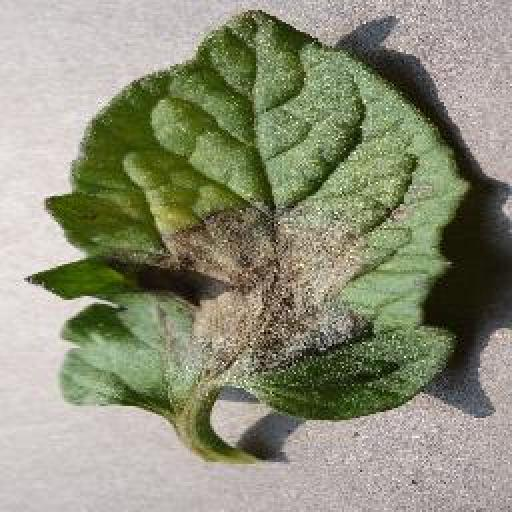Late Blight: (27, 7, 469, 421)
